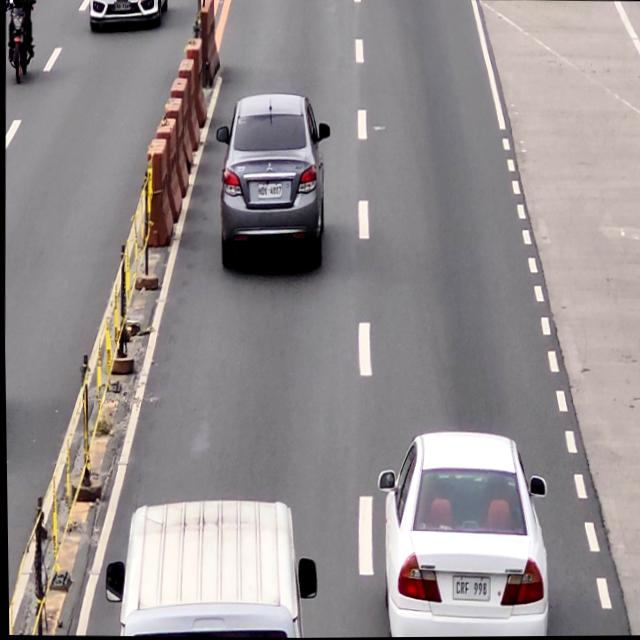Car: (371, 430, 551, 638), (213, 92, 334, 271)
License-Plate: (451, 574, 488, 601), (256, 184, 282, 198)
